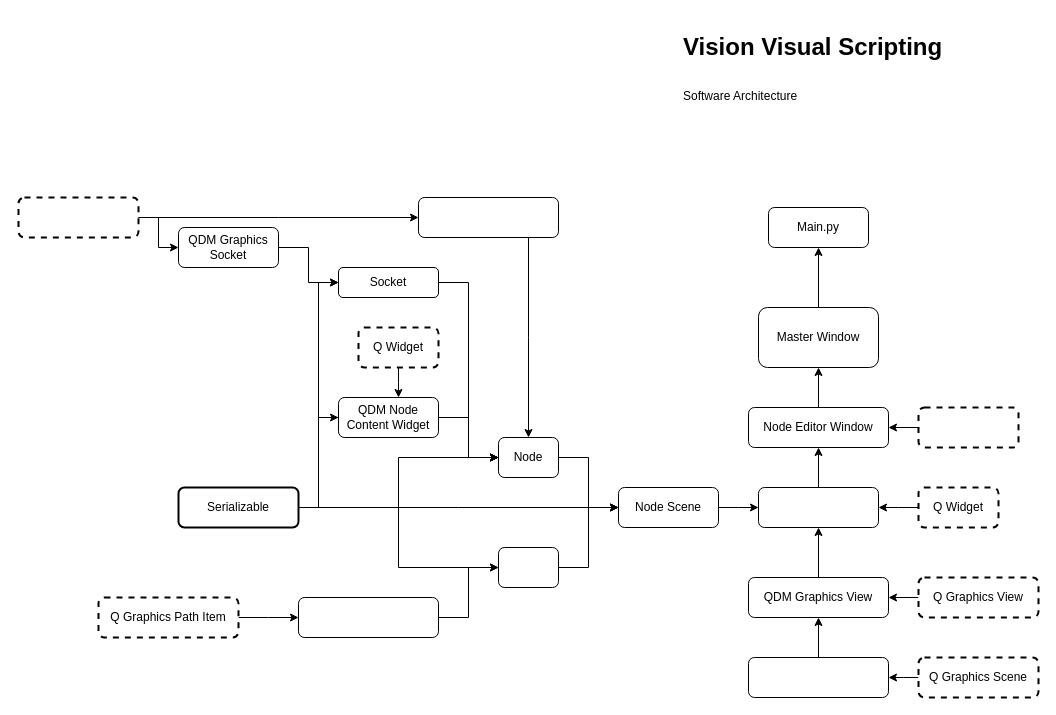
This 1056x715 diagram has some shape labels left out. The centre of each missing label's shape, as x and y in pixels:
Edge: the point at 528,567
Node Editor Widget: the point at 818,507
Q Graphics Item: the point at 78,217
Q Main Window: the point at 968,427
QDM Graphics Edge: the point at 368,617
QDM Graphics Node: the point at 488,217
QDM Graphics Scene: the point at 818,677
